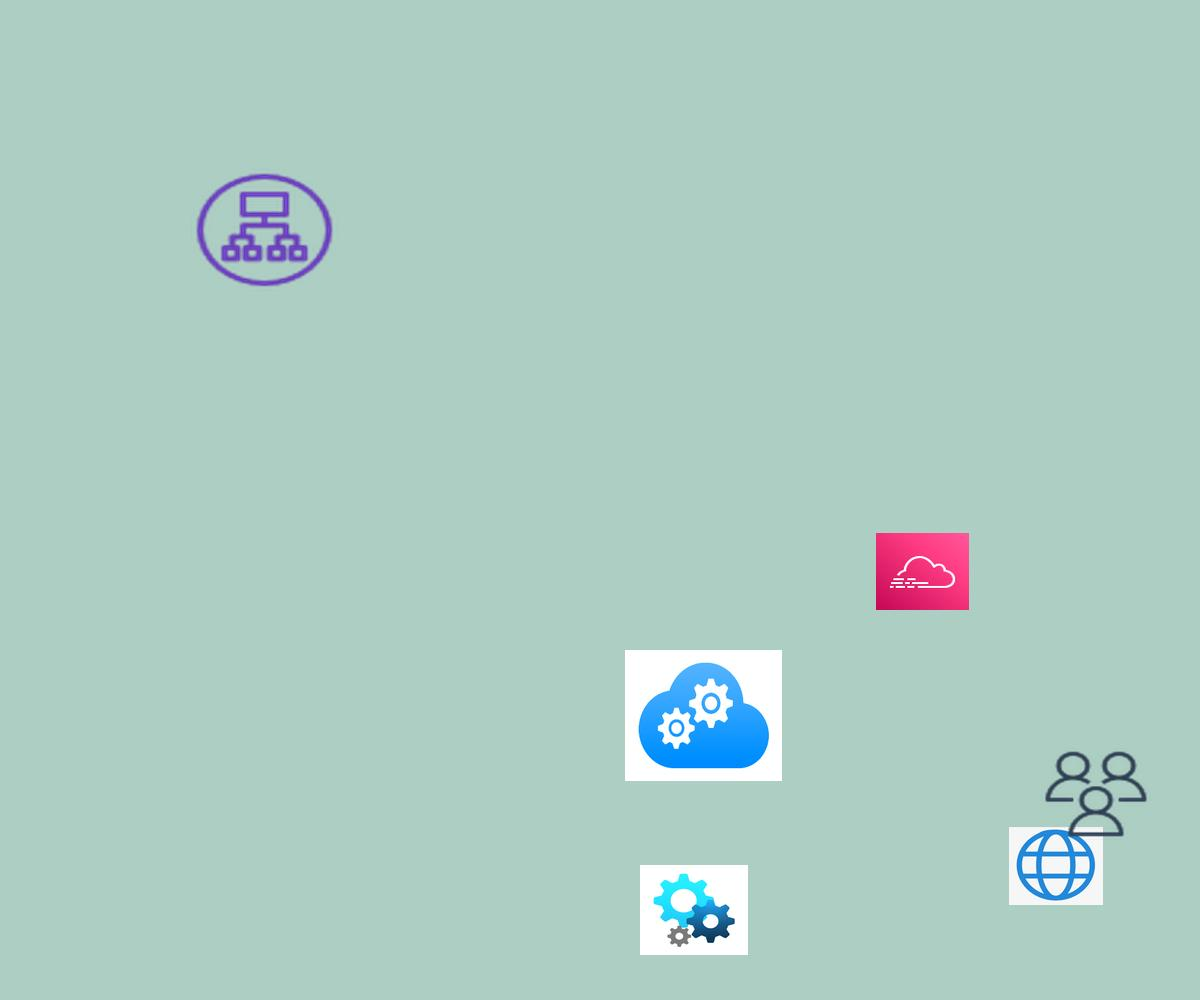AWS-CloudTrail: (876, 533, 969, 610)
AWS-Res_Elastic-Load-Balancing_Application-Load-Balancer: (191, 169, 338, 291)
AWS-Res_Users: (1041, 748, 1151, 840)
Azure_api: (640, 865, 748, 955)
Azure_cloud_services: (625, 650, 782, 781)
Azure_http: (1009, 827, 1103, 905)
